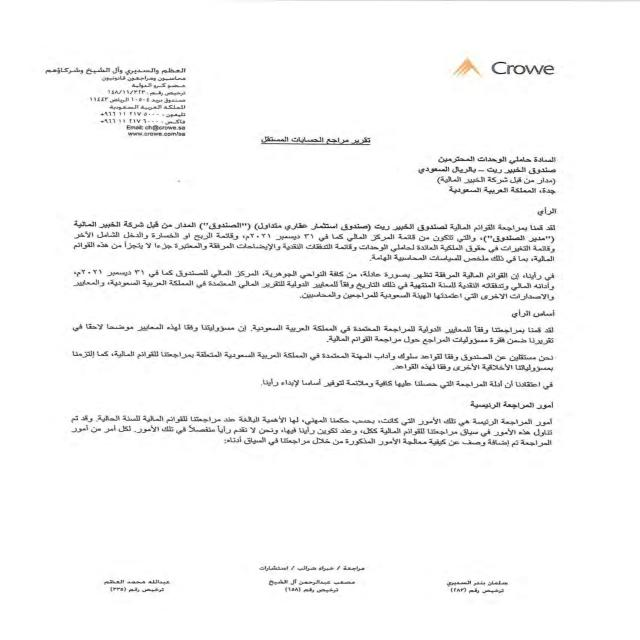auditor_report: (246, 132, 380, 151)
